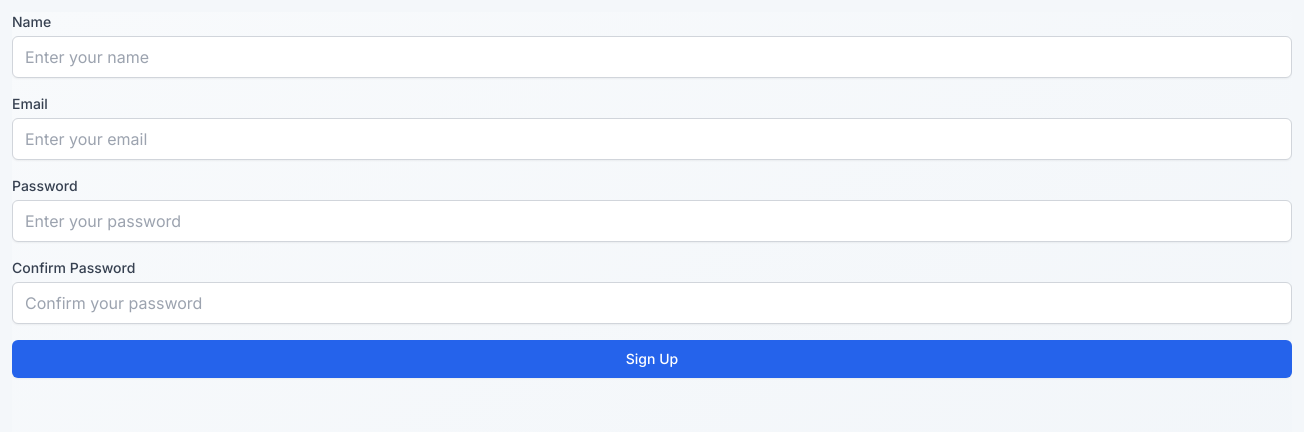
it: SignupForm › should show error message on signup failure
The image size is (1304, 432).
In the field with test id "email": (652, 139) [12,118,1292,160], type "user@example.com"
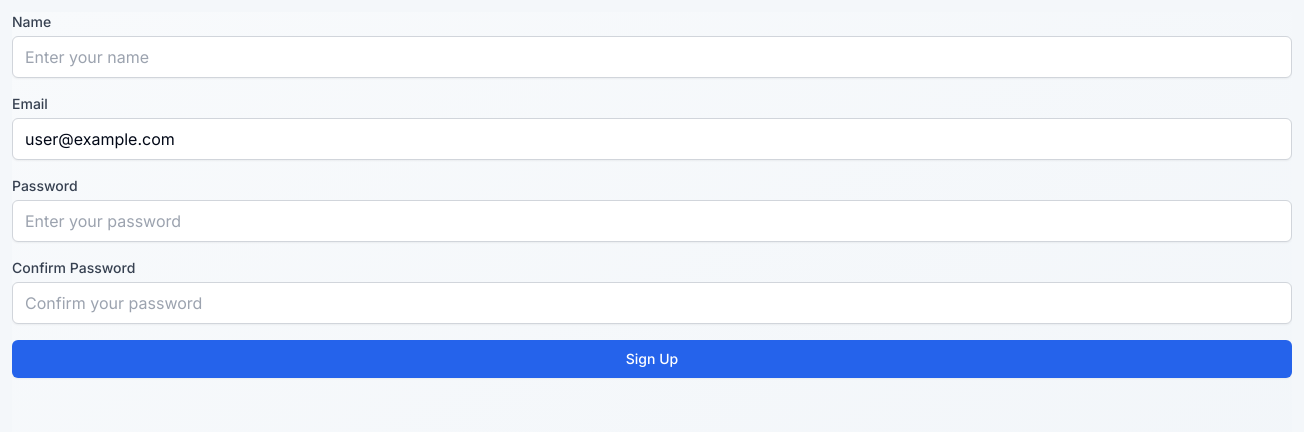
In the password field with test id "password": (652, 221) [12,200,1292,242], type "Password123"
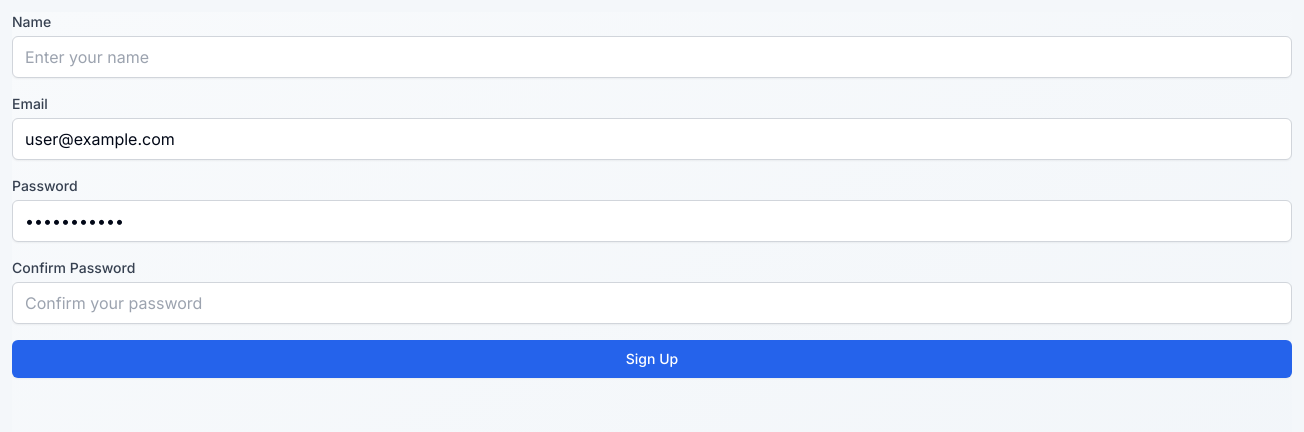
In the password field with test id "confirmPassword": (652, 303) [12,282,1292,324], type "Password123"
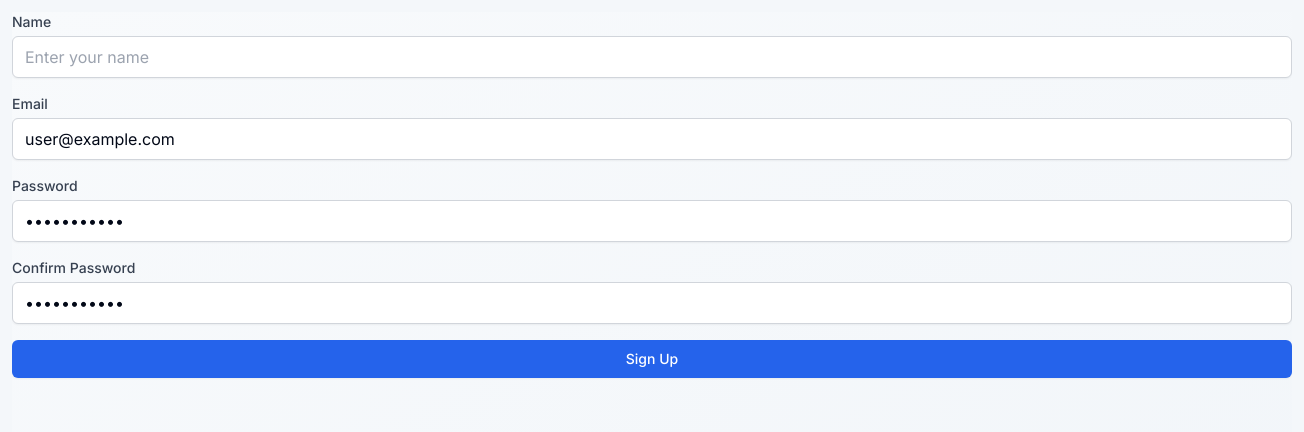
Click the button with test id "signup-button": click(652, 359) [12,340,1292,378]
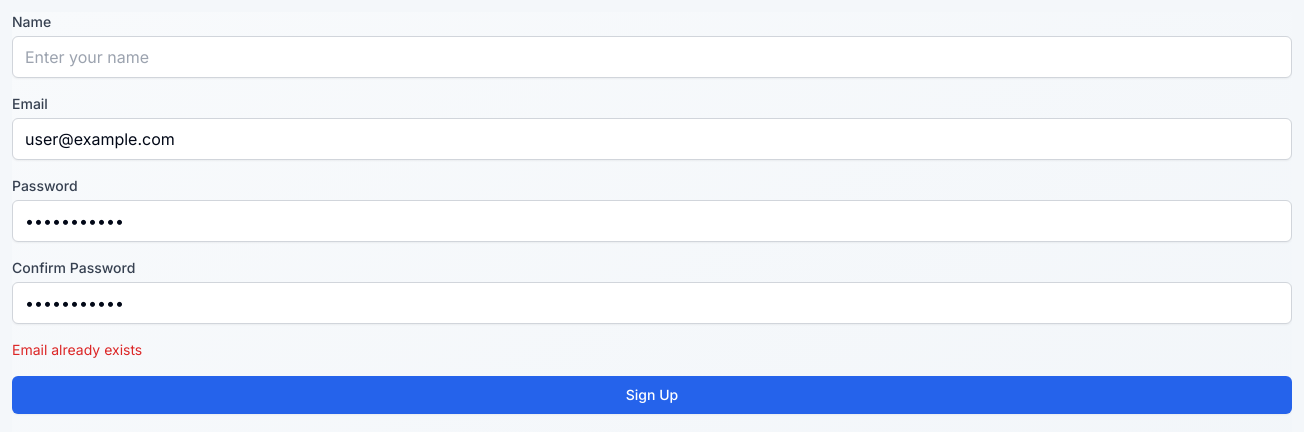
Check: the text with test id "error-message" reads "Email already exists", box [12,341,142,358]
